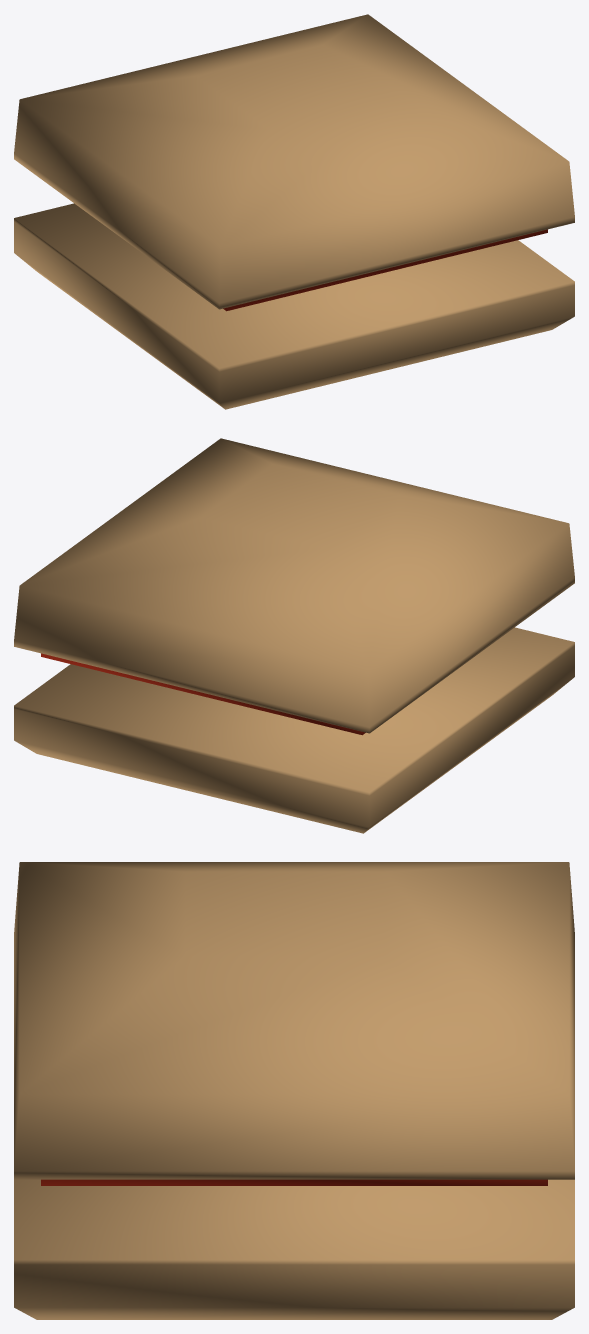
File: hamburger-simple.glb
The picture shows the model from 3 angles, top to bottom: view 1: azimuth 30°, elevation 25°; view 2: azimuth 150°, elevation 25°; view 3: azimuth 270°, elevation 25°; orthographic projection. The views are drawn at different scales.
Parts seen in each view (by area): view 1: Top bun, Bottom bun, Tomato; view 2: Top bun, Bottom bun, Tomato; view 3: Top bun, Bottom bun, Tomato.
Boxes of the visible parts, x1,y1,x2,y2 form: Top bun: [14, 14, 574, 309]; Bottom bun: [14, 203, 574, 409]; Tomato: [223, 229, 547, 311]; Top bun: [14, 438, 574, 733]; Bottom bun: [14, 627, 574, 833]; Tomato: [41, 653, 365, 735]; Top bun: [14, 862, 574, 1179]; Bottom bun: [14, 1179, 574, 1319]; Tomato: [41, 1179, 547, 1185].
Bounding box in the file's own units: 10 × 5.81 × 10.
